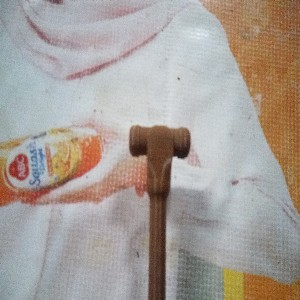palu: (128, 125, 191, 300)
